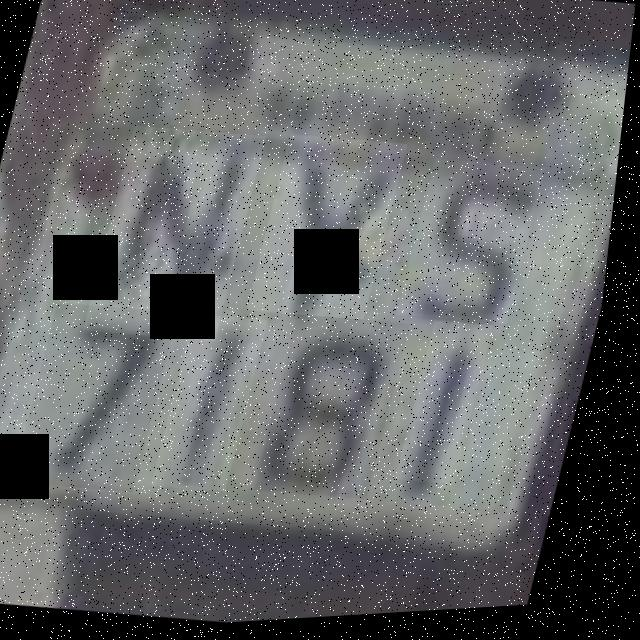1: (162, 313, 276, 499), (406, 324, 502, 495)
7: (22, 298, 188, 501)
8: (264, 314, 420, 510)
N: (89, 121, 271, 351)
S: (403, 159, 551, 335)
Y: (253, 133, 413, 330)
